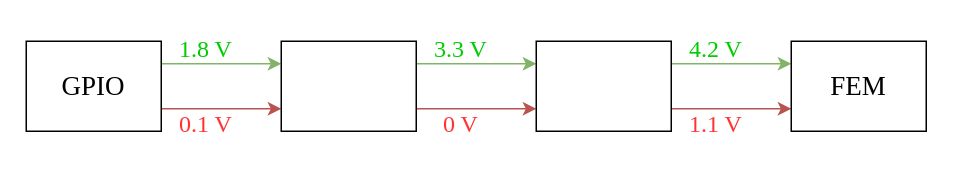
The diagram is 953 pixels wide and 171 high, and some of its shapes have lost their labels. The centre of each missing label's shape, as x and y in pixels:
"DCDC" belongs at (603,85).
"Logic" belongs at (348,85).
